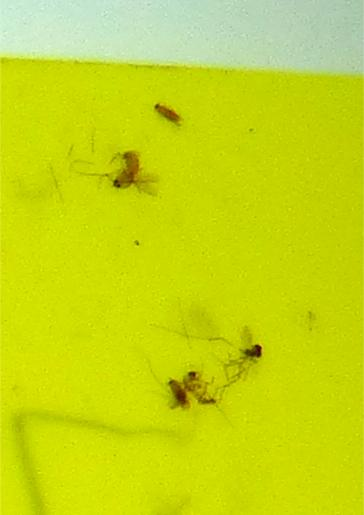Nematocera: (100, 148, 157, 195), (222, 327, 264, 388), (151, 368, 194, 415), (181, 360, 220, 411)
Trichoptera: (151, 100, 184, 129)
